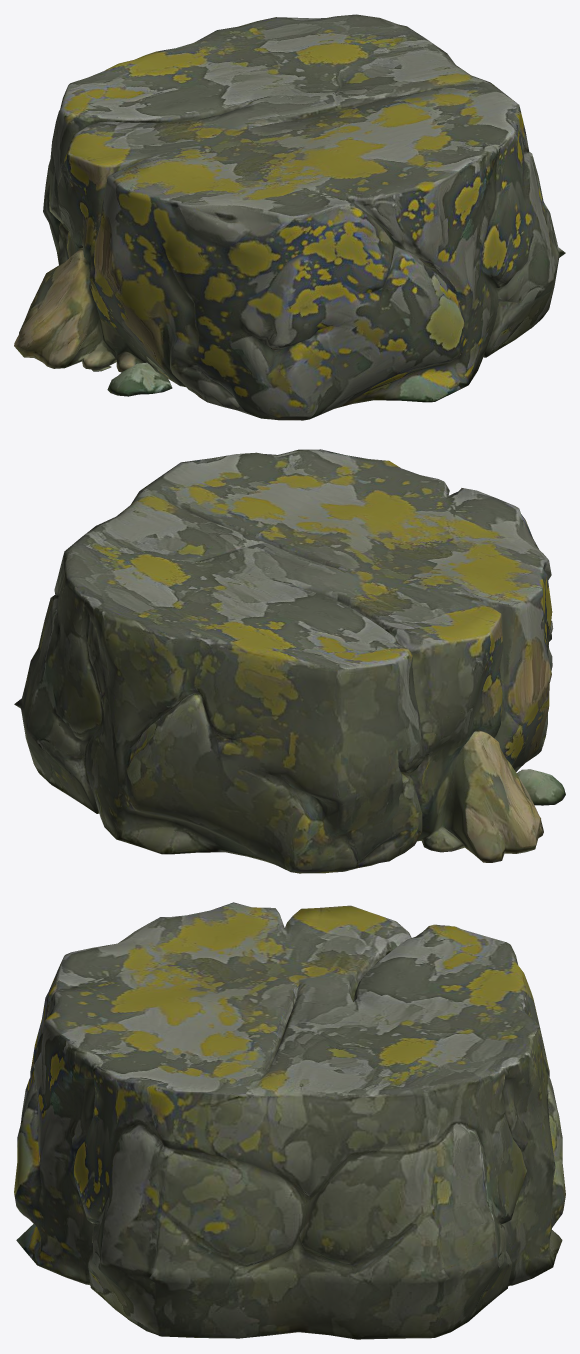
Rendered from sc_slab.glb.
3 renders of one model, top to bottom at view 1: azimuth 30°, elevation 25°; view 2: azimuth 150°, elevation 25°; view 3: azimuth 270°, elevation 25°, orthographic. The views are drawn at different scales.
Parts seen in each view (by area): view 1: sc_slab; view 2: sc_slab; view 3: sc_slab.
Boxes of the visible parts, x1,y1,x2,y2 form: sc_slab: [14, 14, 565, 420]; sc_slab: [14, 449, 565, 873]; sc_slab: [14, 902, 565, 1339].
Bounding box in the file's own units: 1.9 × 0.844 × 1.77.
Materials: 1 (1 with a texture image).
